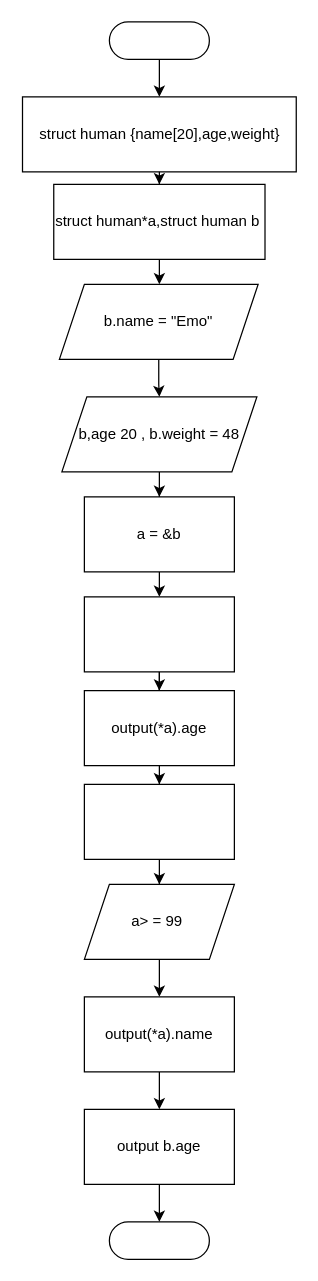
This 318x1281 diagram has some shape labels left out. The box of each missing label's shape, as (x1, y1, x2, y2) in pixels:
end: (108, 1221, 209, 1259)
output (*a).name: (83, 596, 234, 672)
output(*a).weight: (83, 783, 234, 859)
start: (108, 21, 209, 59)
